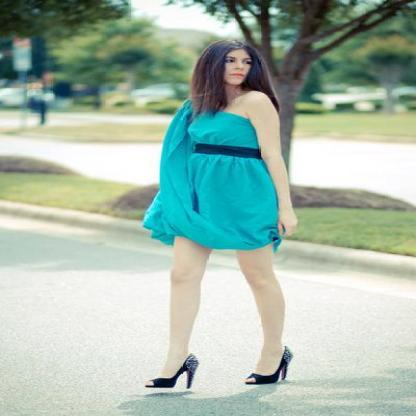dress: (143, 101, 282, 251)
shoe: (146, 350, 291, 388)
